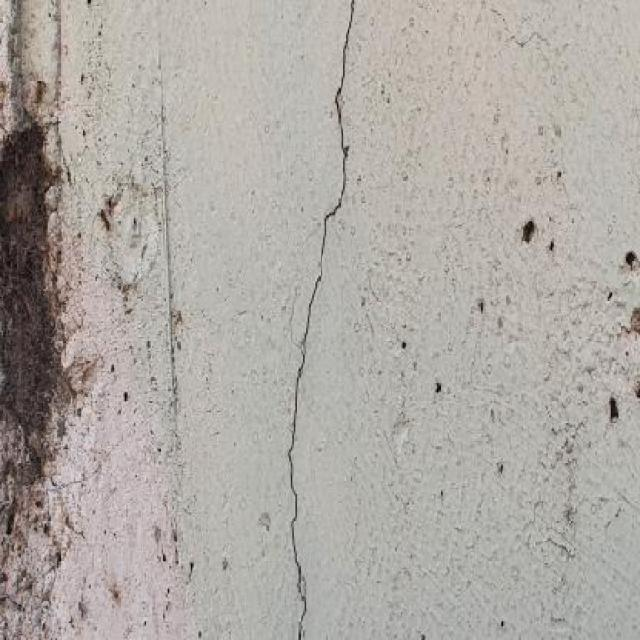vertical crack: (284, 7, 363, 637)
